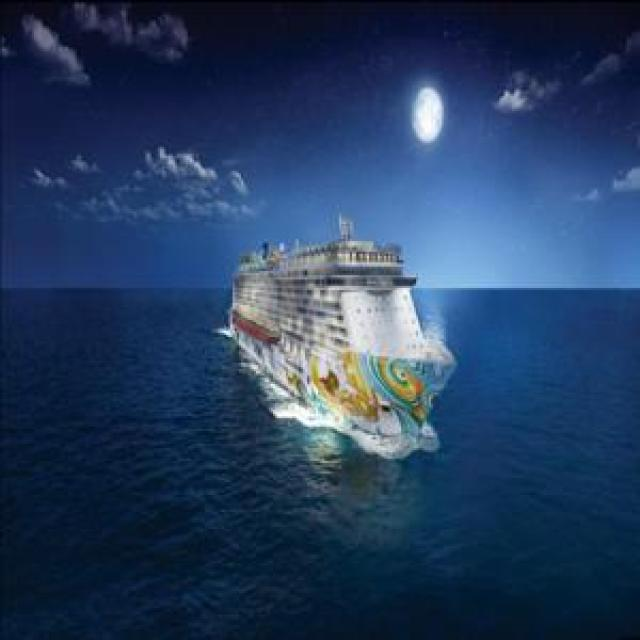passenger ship: (234, 208, 455, 470)
